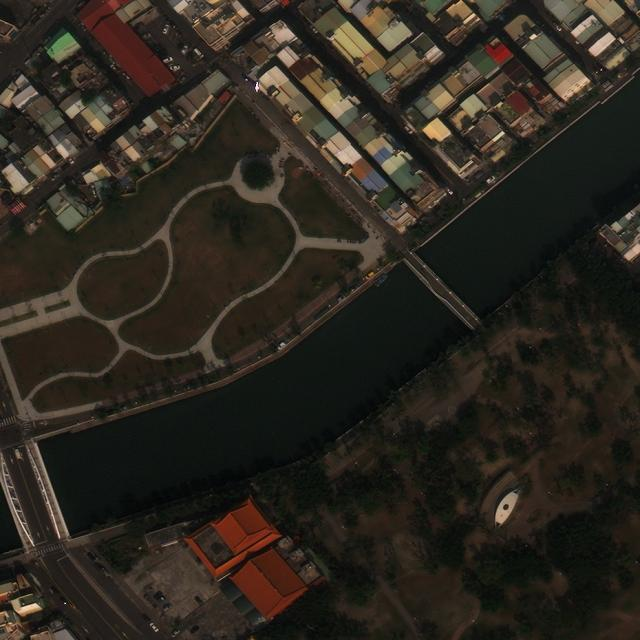Other Ship: (374, 275, 390, 288)
